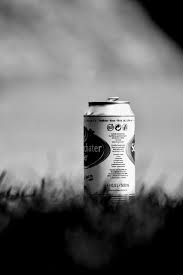can: (83, 96, 139, 212)
